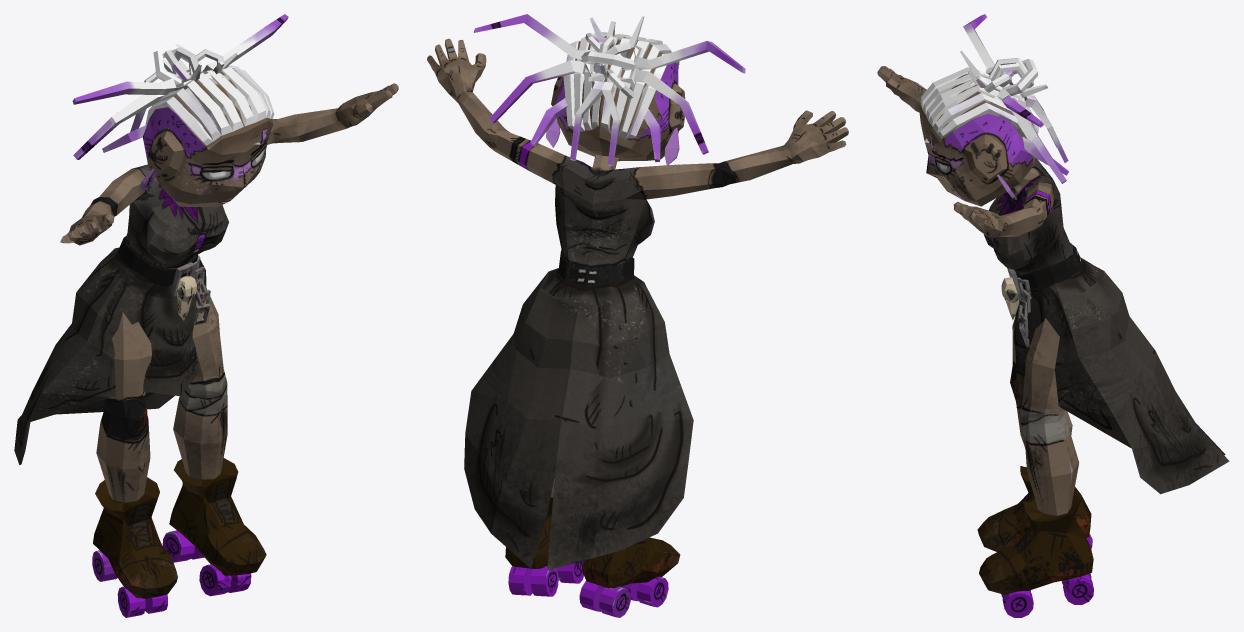
File: bruja_000136.obj
3 views of the same model, side by side, from view 1: azimuth 30°, elevation 25°; view 2: azimuth 150°, elevation 25°; view 3: azimuth 270°, elevation 25° (orthographic). The views are drawn at different scales.
Visible parts, largest first — view 1: Bruja_Plane.001; view 2: Bruja_Plane.001; view 3: Bruja_Plane.001.
Part boxes in pixels (x1=…): Bruja_Plane.001: x1=14, y1=14, x2=398, y2=617; Bruja_Plane.001: x1=427, y1=14, x2=848, y2=617; Bruja_Plane.001: x1=877, y1=14, x2=1229, y2=617.
Bounding box in the file's own units: 11.32 × 16.18 × 9.67.
